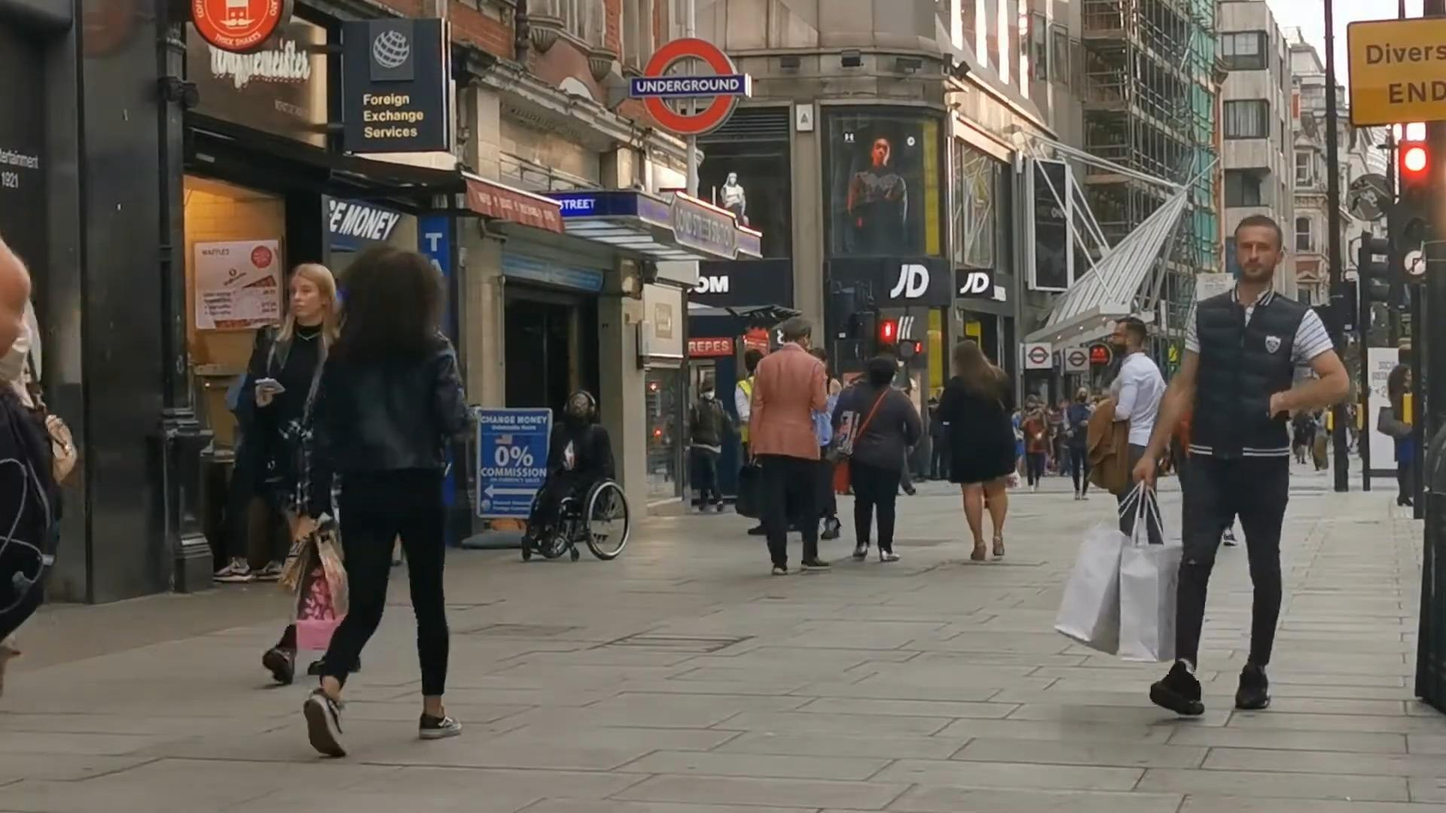no-helmet: (340, 247, 446, 334), (1233, 215, 1283, 283), (287, 263, 338, 323), (1112, 316, 1147, 357), (954, 340, 991, 371), (867, 352, 898, 387), (783, 316, 812, 349)
